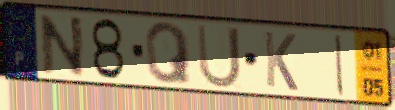8: (90, 16, 127, 81)
I: (333, 32, 346, 98)
K: (262, 29, 300, 94)
N: (37, 13, 87, 79)
Q: (143, 20, 194, 86)
U: (194, 22, 243, 91)
